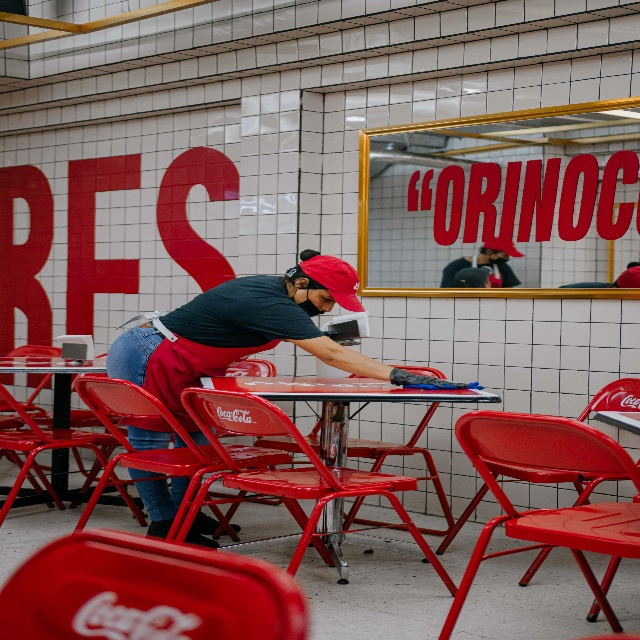Guantes: (388, 366, 484, 396)
Mascara: (292, 285, 324, 315)
